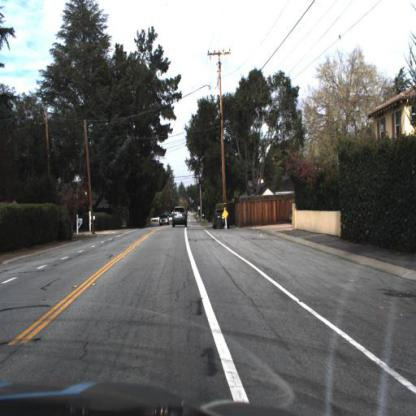car: (172, 204, 188, 228), (213, 208, 227, 229), (158, 212, 170, 228)
